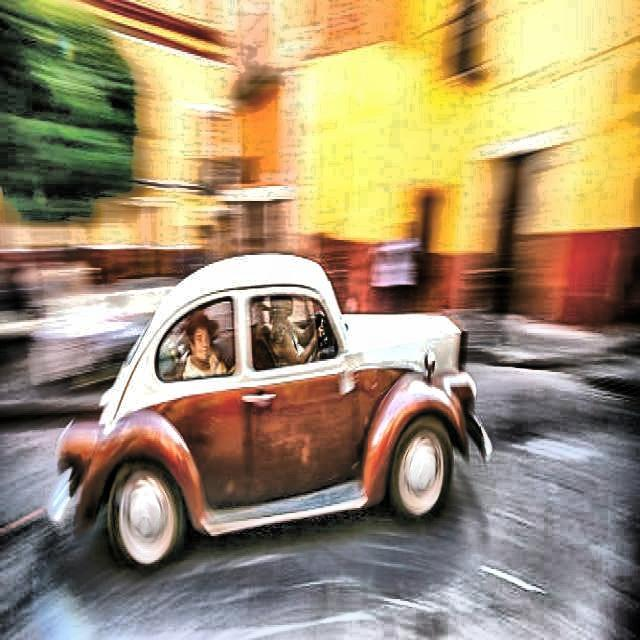carro: (65, 268, 472, 538)
